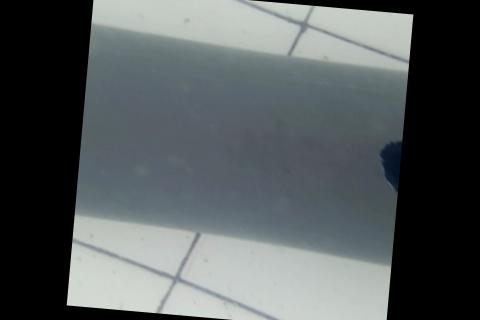kebocoran: (370, 131, 402, 201)
